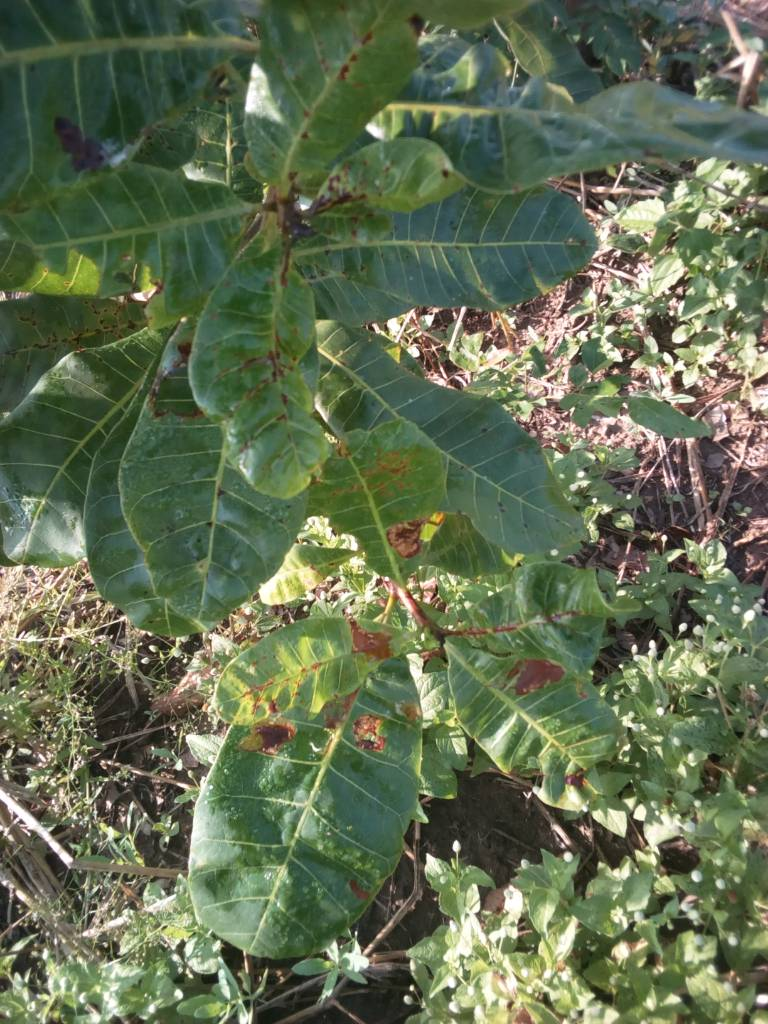Pestalotiose: (208, 622, 415, 727)
